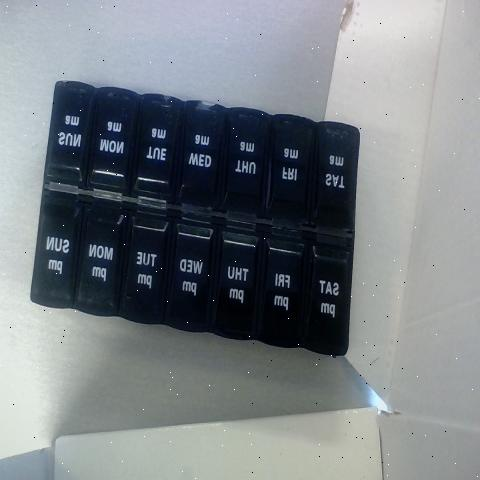FRI-am: (270, 118, 306, 213)
FRI-pm: (263, 232, 297, 340)
MON-am: (90, 88, 134, 191)
MON-pm: (79, 204, 120, 315)
SAT-am: (316, 126, 356, 223)
SAT-pm: (308, 241, 346, 352)
SUN-am: (54, 82, 89, 180)
SUN-pm: (38, 193, 76, 305)
THU-am: (222, 111, 263, 206)
THU-pm: (216, 227, 256, 335)
TUE-am: (136, 98, 176, 202)
TUE-pm: (123, 213, 166, 324)
WED-am: (180, 106, 222, 210)
WED-pm: (170, 218, 211, 330)
